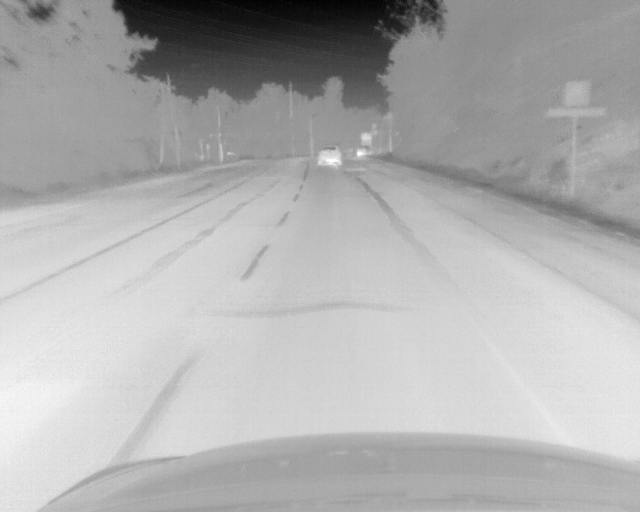car: (315, 145, 344, 168), (353, 148, 369, 158)
